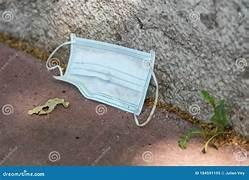Mask: (46, 34, 157, 125)
